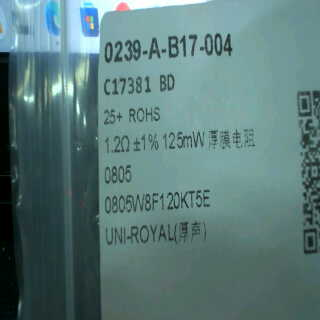1.2R: (102, 132, 133, 191)
